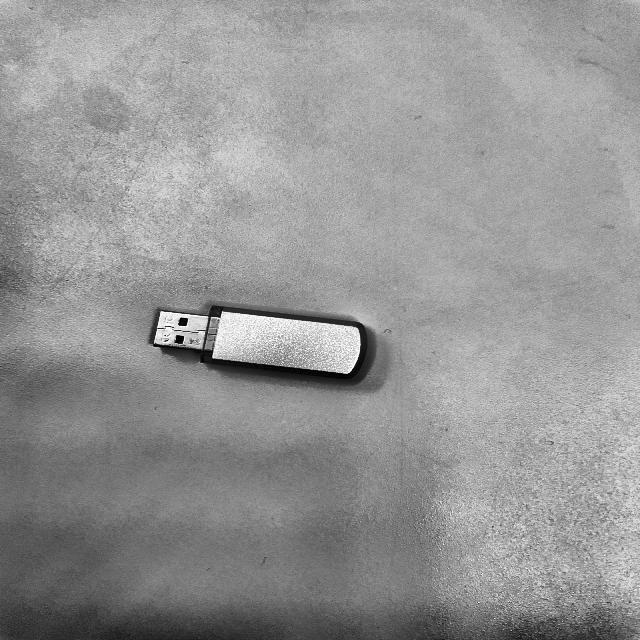Mug: (130, 294, 400, 394)
